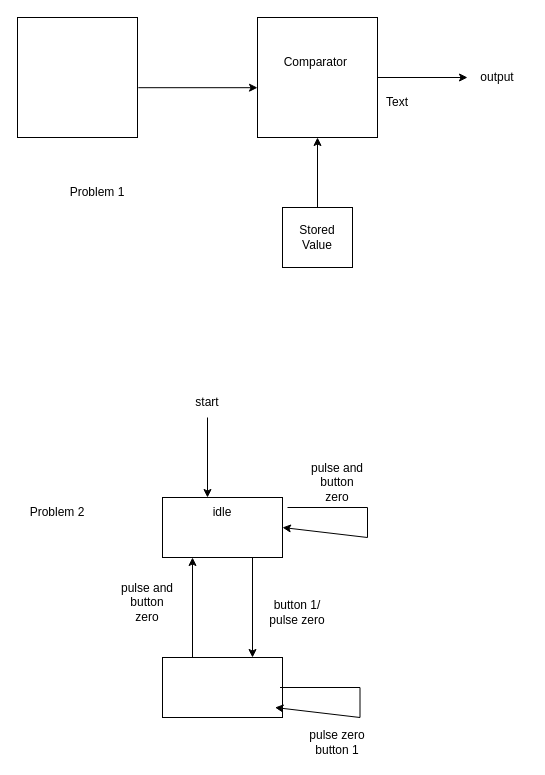
This 545x775 diagram has some shape labels left out. Here are the shapes that lost their labels. From the top down, the centre of each, then its label:
At (x=77, y=77): "N bit countter".
At (x=222, y=687): "pressed".
